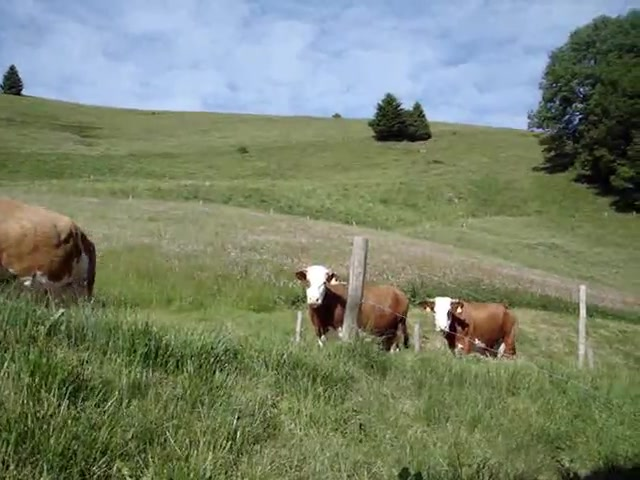cow: (2, 192, 99, 305)
